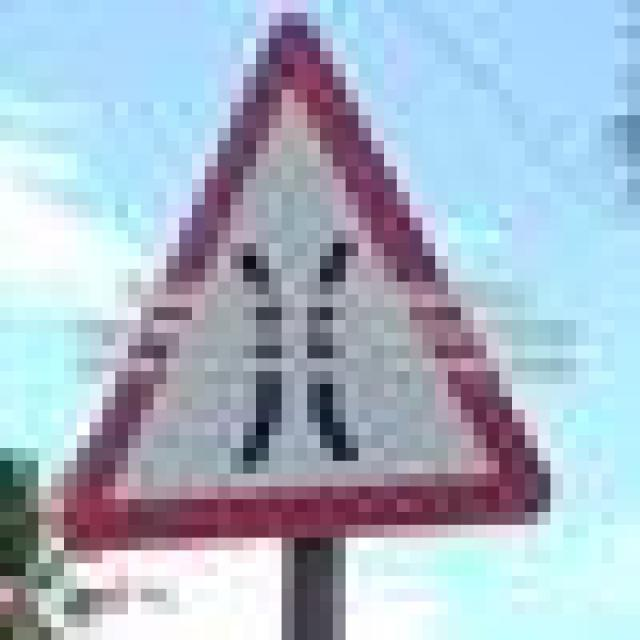narrow bridge ahead: (56, 18, 548, 535)
